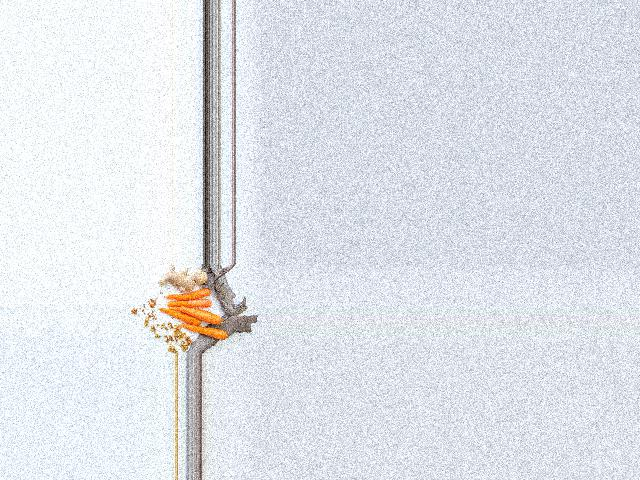carrot: (166, 282, 213, 302)
